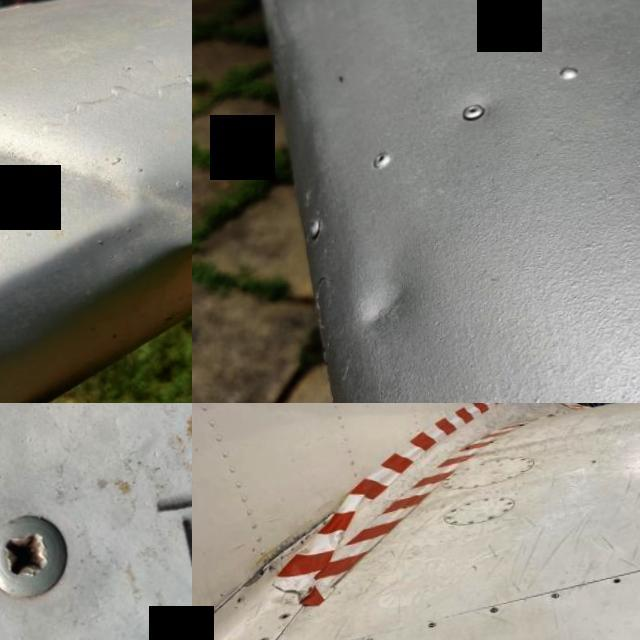Crack: (245, 505, 344, 573), (204, 546, 275, 598)
Dent: (0, 81, 192, 295), (327, 242, 446, 366)
Missing_Fastener: (601, 582, 620, 592), (271, 614, 287, 622), (192, 627, 203, 638), (230, 598, 242, 607)
